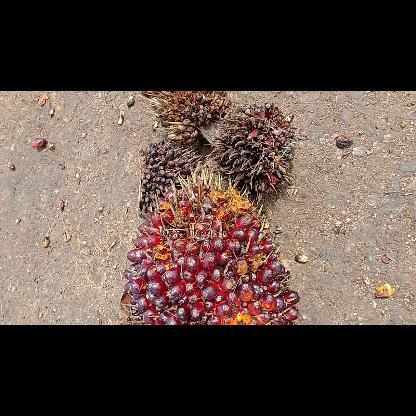TBS abnormal: (208, 102, 296, 204), (137, 137, 203, 219), (138, 92, 234, 146)
TBS masak: (118, 164, 302, 324)
